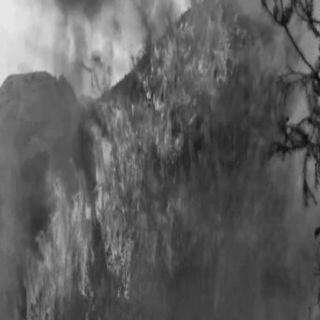Fire: (16, 14, 244, 310)
